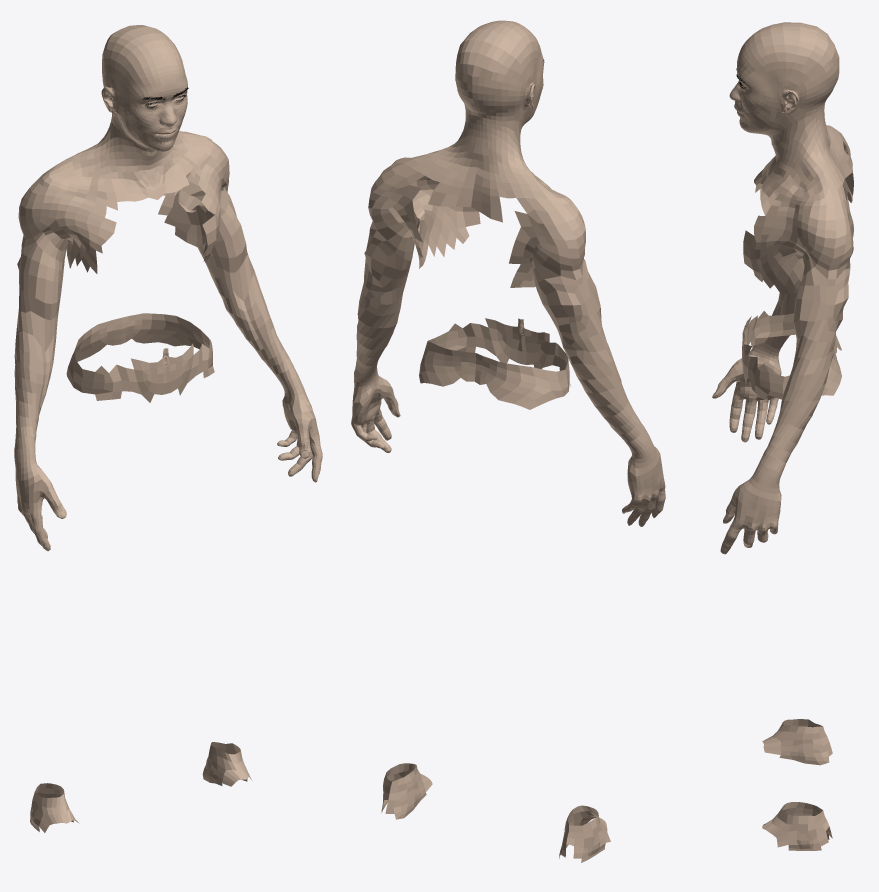
The model's file is man_outfit.glb.
3 views of the same model, side by side, from view 1: azimuth 30°, elevation 25°; view 2: azimuth 150°, elevation 25°; view 3: azimuth 270°, elevation 25° (orthographic). The views are drawn at different scales.
Parts seen in each view (by area): view 1: man_basic; view 2: man_basic; view 3: man_basic.
Boxes of the visible parts, x1,y1,x2,y2 form: man_basic: (14,25,322,832); man_basic: (351,20,665,862); man_basic: (712,22,853,850).
Bounding box in the file's own units: 6.63 × 17.47 × 3.34.
